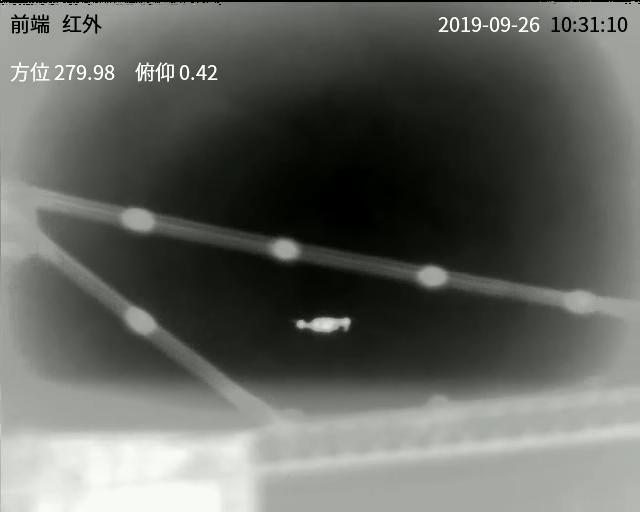uav: (293, 314, 353, 336)
